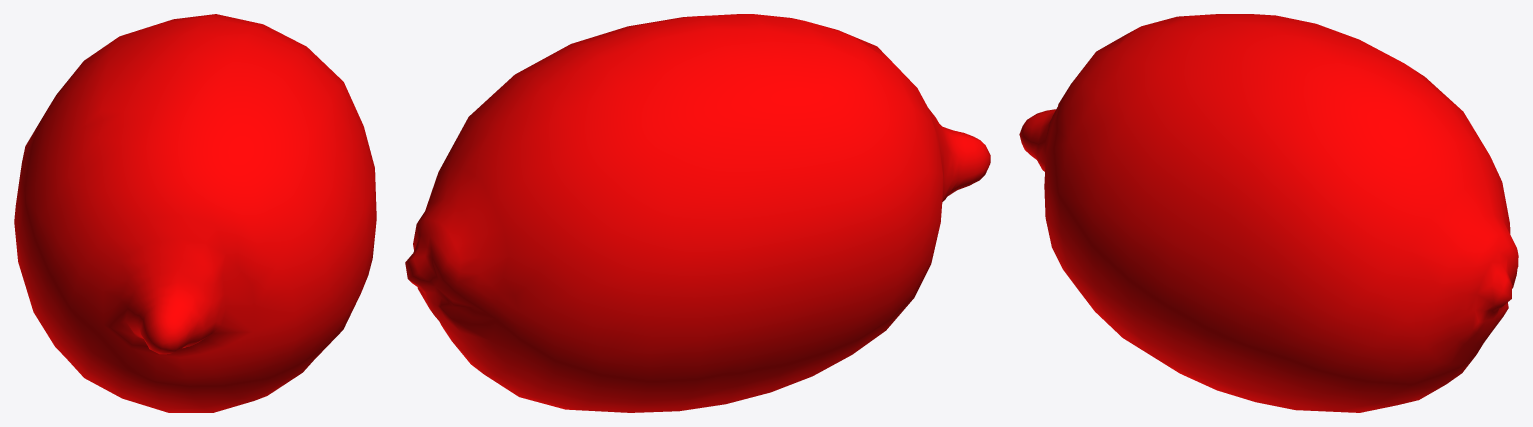
Rendered from lemon1.FBX.
The picture shows the model from 3 angles, left to right: view 1: azimuth 30°, elevation 25°; view 2: azimuth 150°, elevation 25°; view 3: azimuth 270°, elevation 25°; orthographic projection. The views are drawn at different scales.
Visible parts, largest first — view 1: lemon1; view 2: lemon1; view 3: lemon1.
Part boxes in pixels (<box>): lemon1: <box>14,14,376,412</box>; lemon1: <box>405,14,990,412</box>; lemon1: <box>1019,14,1518,412</box>.
Size of the model in its own units: 61.42 by 52.82 by 68.8.
